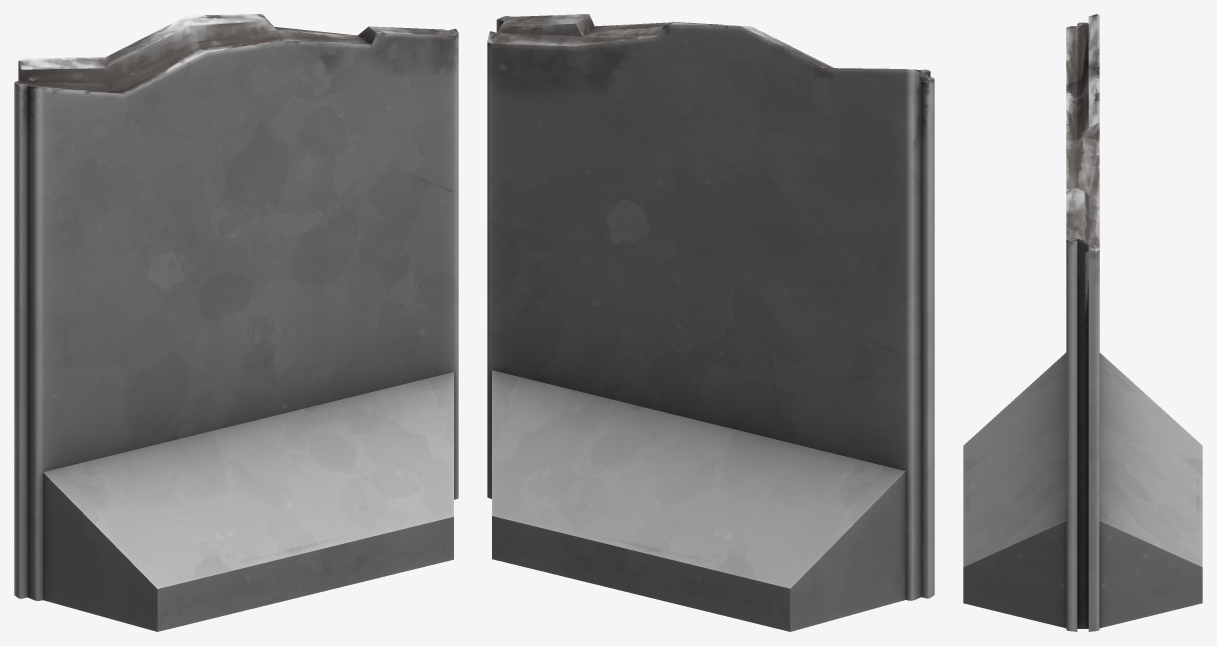
File: BarrierConcrete01_2.FBX
3 renders of one model, left to right at view 1: azimuth 30°, elevation 25°; view 2: azimuth 150°, elevation 25°; view 3: azimuth 270°, elevation 25°, orthographic. The views are drawn at different scales.
Visible parts, largest first — view 1: BarrierConcrete01_2; view 2: BarrierConcrete01_2; view 3: BarrierConcrete01_2.
Part boxes in pixels (x1,y1,x2,y2): BarrierConcrete01_2: (14, 14, 458, 631); BarrierConcrete01_2: (487, 14, 934, 631); BarrierConcrete01_2: (963, 14, 1202, 631).
Size of what is drawn, in the model's own units: 1.27 by 1.48 by 0.7195.
